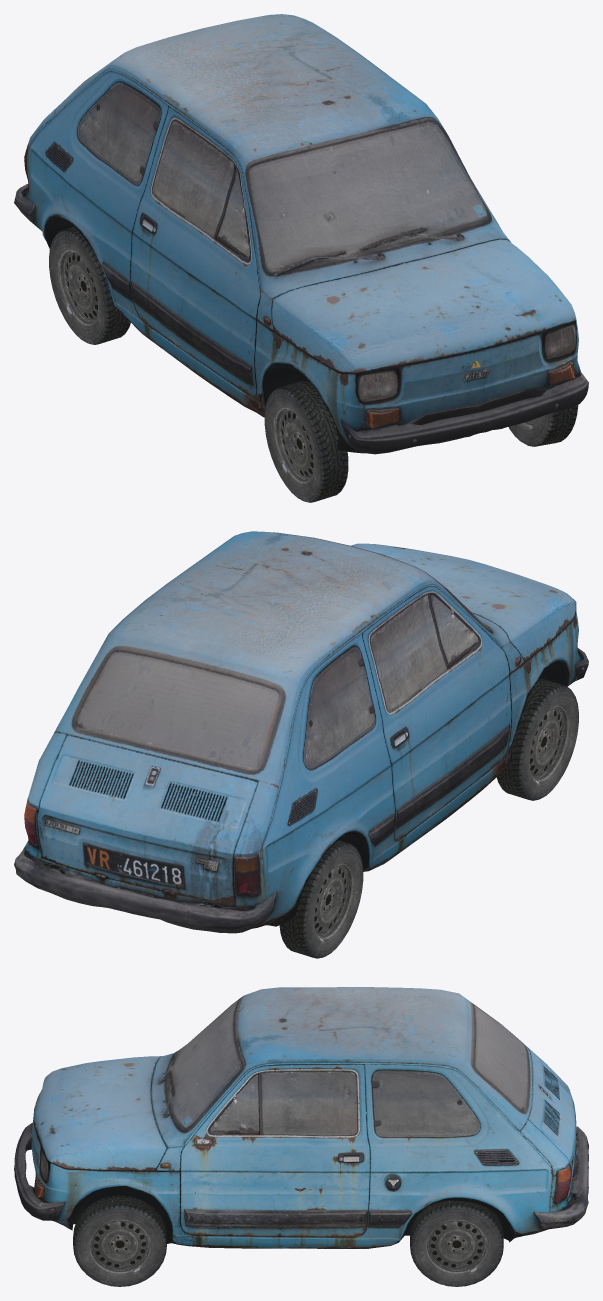
The model's file is car_realitycapture_-_lowpoly_remake.glb.
3 renders of one model, top to bottom at view 1: azimuth 30°, elevation 25°; view 2: azimuth 150°, elevation 25°; view 3: azimuth 270°, elevation 25°, orthographic. The views are drawn at different scales.
Visible parts, largest first — view 1: car_base_color-material, Material-material; view 2: car_base_color-material, Material-material; view 3: car_base_color-material, Material-material.
Boxes of the visible parts, left/top/right/bottom form: car_base_color-material: left=14, top=14, right=588, bottom=454; Material-material: left=49, top=226, right=578, bottom=502; car_base_color-material: left=14, top=531, right=588, bottom=933; Material-material: left=279, top=678, right=578, bottom=958; car_base_color-material: left=14, top=987, right=588, bottom=1248; Material-material: left=73, top=1195, right=503, bottom=1286.
Size of the model in its own units: 8.22 by 8.36 by 19.32.
Materials: 2 (2 with a texture image).
